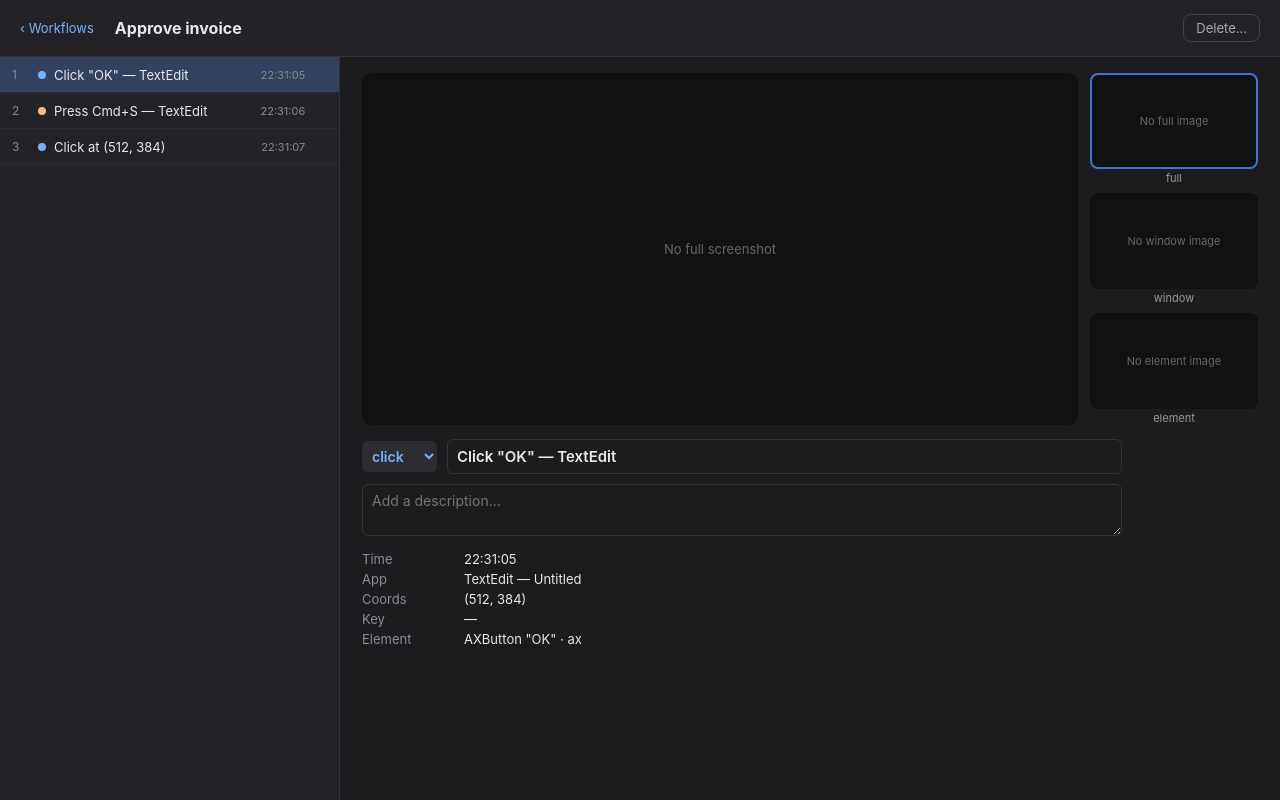
Scenario: workflow deletion › confirms destructively with Cancel as the default and names the keystroke data
The width and height of the screenshot is (1280, 800).
Check: the text "Click \"OK\" — TextEdit" is shown, box [54, 66, 189, 82]
Click the button "Delete…". click: click(1222, 28)
box: [1183, 14, 1260, 42]
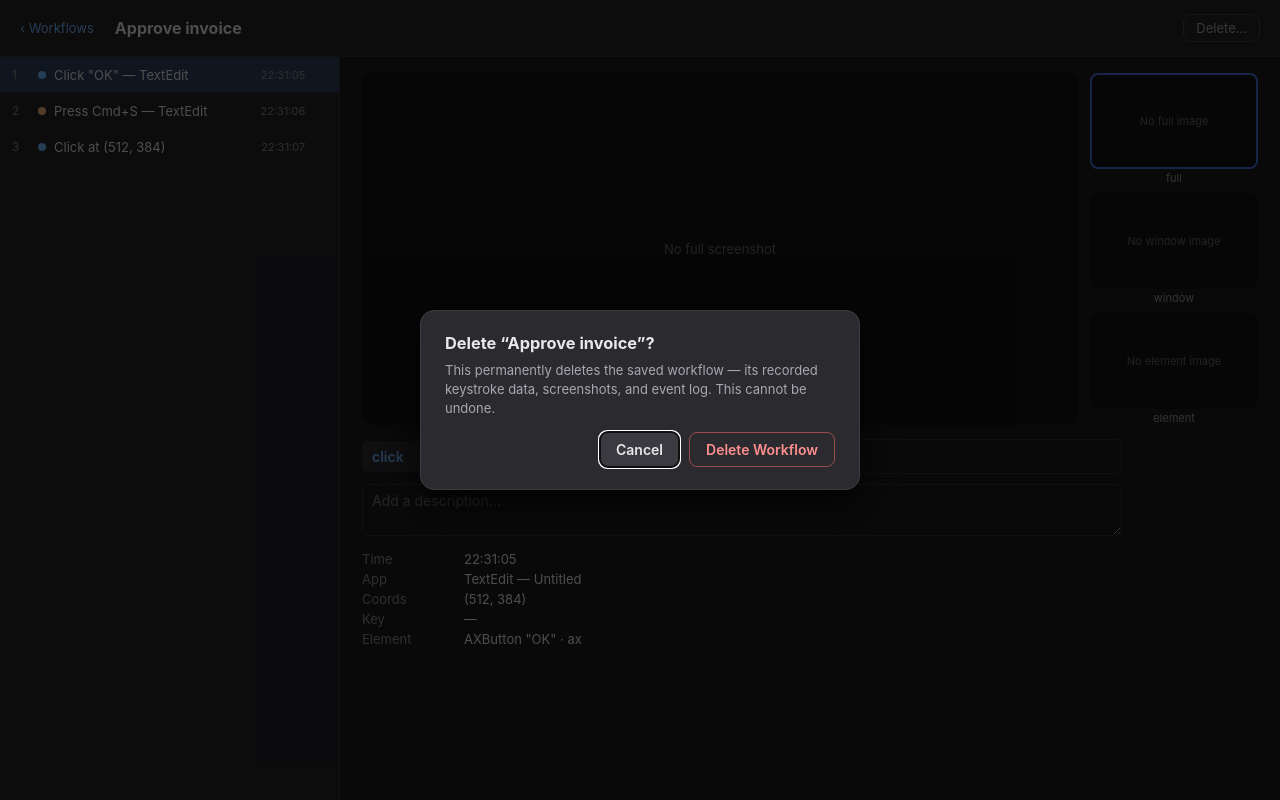
Check: the dialog shows "keystroke data", box [445, 362, 818, 416]
Check: the dialog shows "cannot be undone", box [445, 362, 818, 416]
Click the button "Cancel". click: click(640, 449)
box: [600, 432, 679, 467]
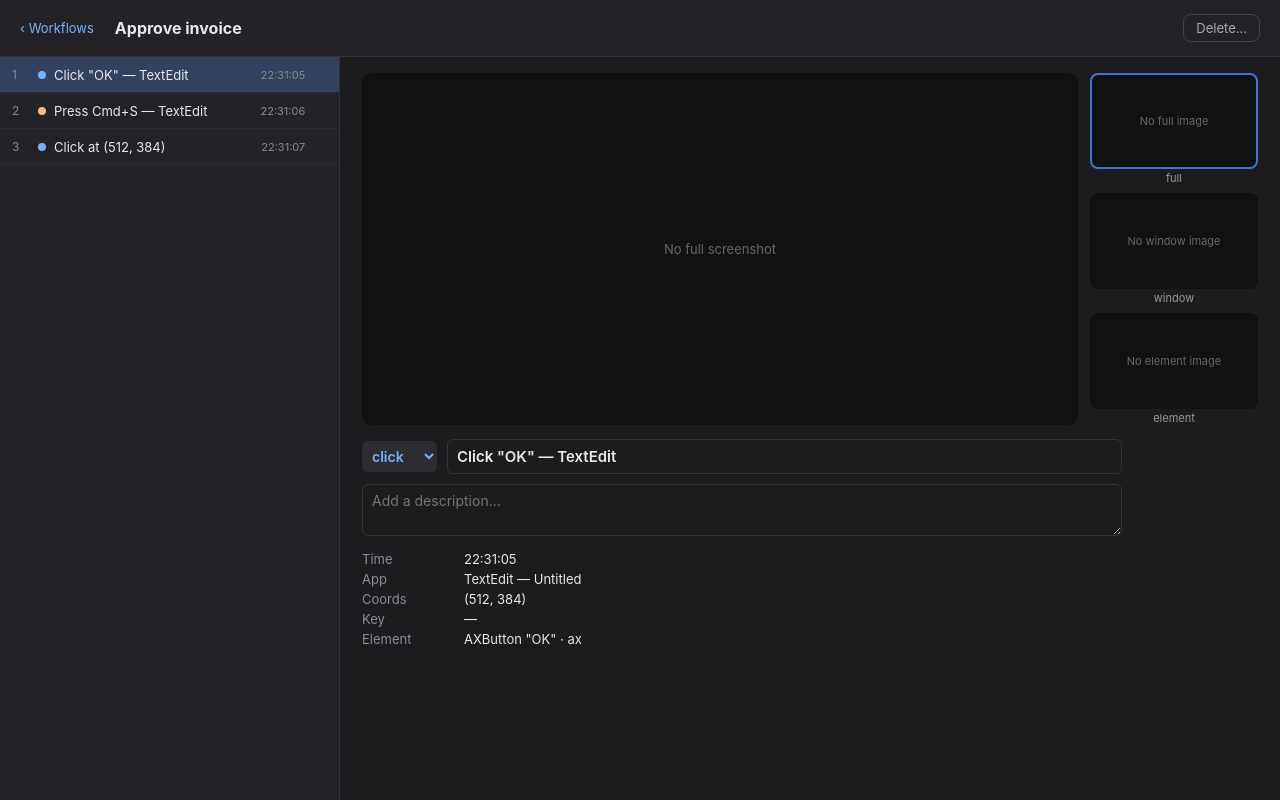
Check: the dialog is gone
